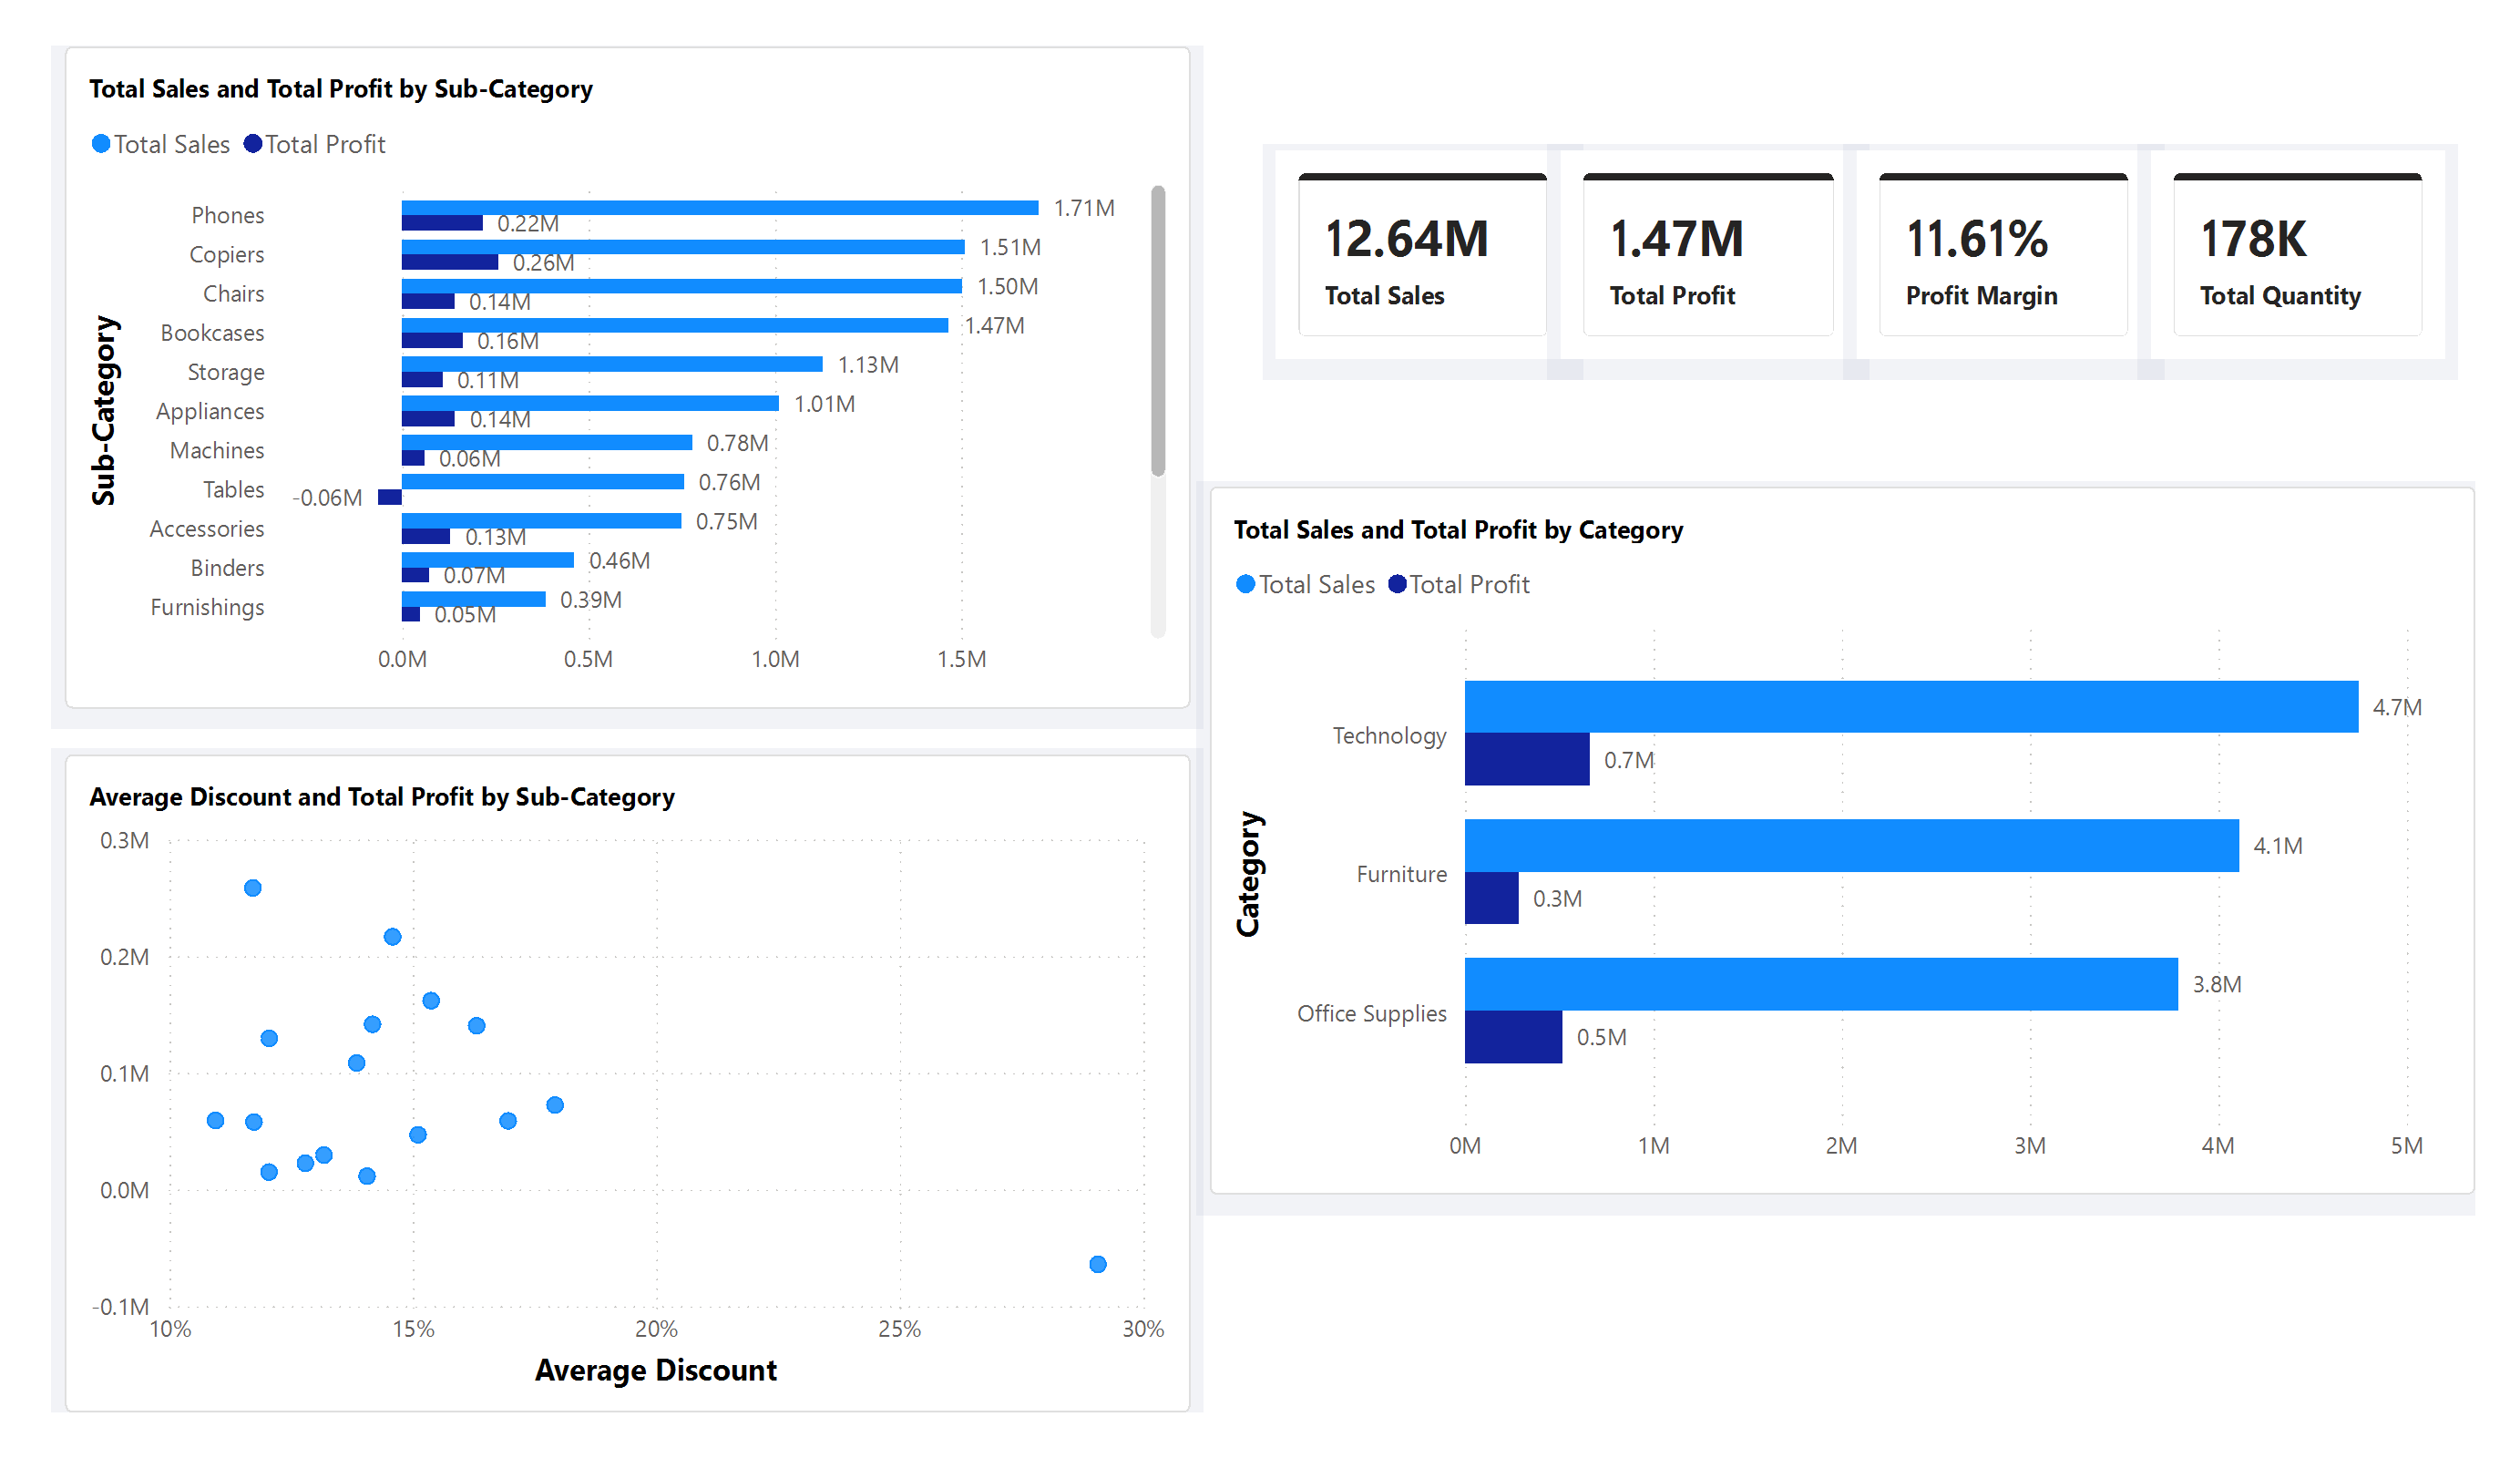

What the dashboard file says about the page in this screenshot:
{"tool":"powerbi","page":{"name":"Sales & Product Performance","canvas":[1280,720],"ordinal":2},"visuals":[{"type":"clusteredBarChart","fields":{"Y":["KPI.Total Sales","KPI.Total Profit"],"Category":["Superstore.Sub-Category"]},"box":[9.8,0,593.1,348.5],"z":0},{"type":"scatterChart","fields":{"X":["KPI.Average Discount"],"Y":["KPI.Total Profit"],"Category":["Superstore.Sub-Category"]},"box":[9.8,373,593.1,347.3],"z":1000},{"type":"clusteredBarChart","fields":{"Category":["Superstore.Category"],"Y":["KPI.Total Sales","KPI.Total Profit"]},"box":[612.6,232.3,667.7,373],"z":2000},{"type":"cardVisual","fields":{"Data":["KPI.Total Sales"]},"box":[647.9,55,155.3,110.1],"z":3000},{"type":"cardVisual","fields":{"Data":["KPI.Total Profit"]},"box":[798.3,55,155.3,110.1],"z":4000},{"type":"cardVisual","fields":{"Data":["KPI.Profit Margin"]},"box":[953.6,55,155.3,110.1],"z":5000},{"type":"cardVisual","fields":{"Data":["KPI.Total Quantity"]},"box":[1108.9,55,155.3,110.1],"z":6000}]}

Visuals, with their boxes on the page's 1280x720 design canvas (x1, y1, x2, y2). These are canvas units, not pixel positions in the 2520x1458 screenshot, which may show the page scaled, cropped or inside an application window:
clusteredBarChart - KPI.Total Sales x KPI.Total Profit: 10/0/603/348
scatterChart - KPI.Average Discount x KPI.Total Profit: 10/373/603/720
clusteredBarChart - Superstore.Category x KPI.Total Sales: 613/232/1280/605
cardVisual - KPI.Total Sales: 648/55/803/165
cardVisual - KPI.Total Profit: 798/55/954/165
cardVisual - KPI.Profit Margin: 954/55/1109/165
cardVisual - KPI.Total Quantity: 1109/55/1264/165
